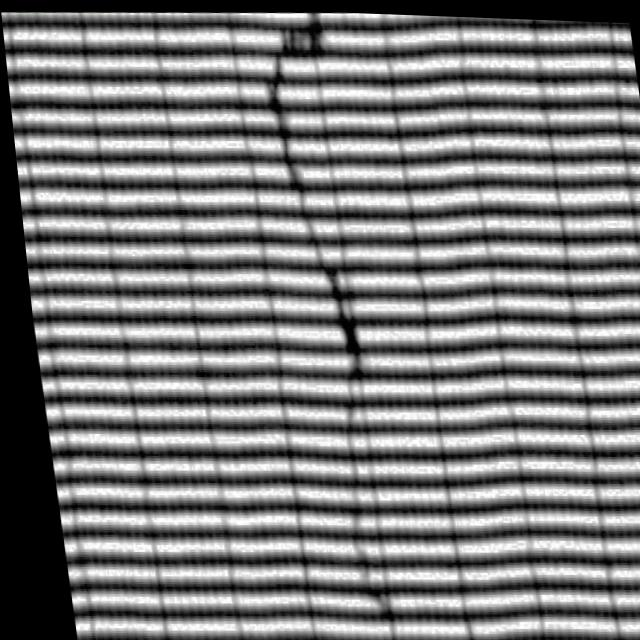Stitch: (222, 6, 432, 394)
